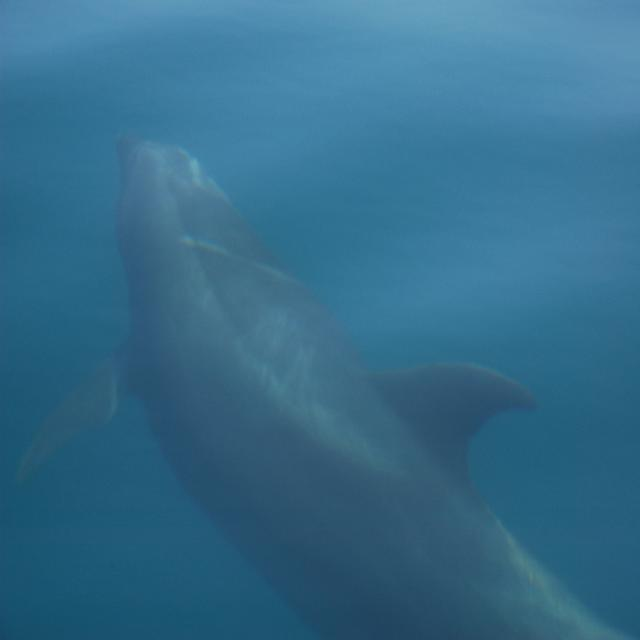Shark: (16, 131, 632, 640)
